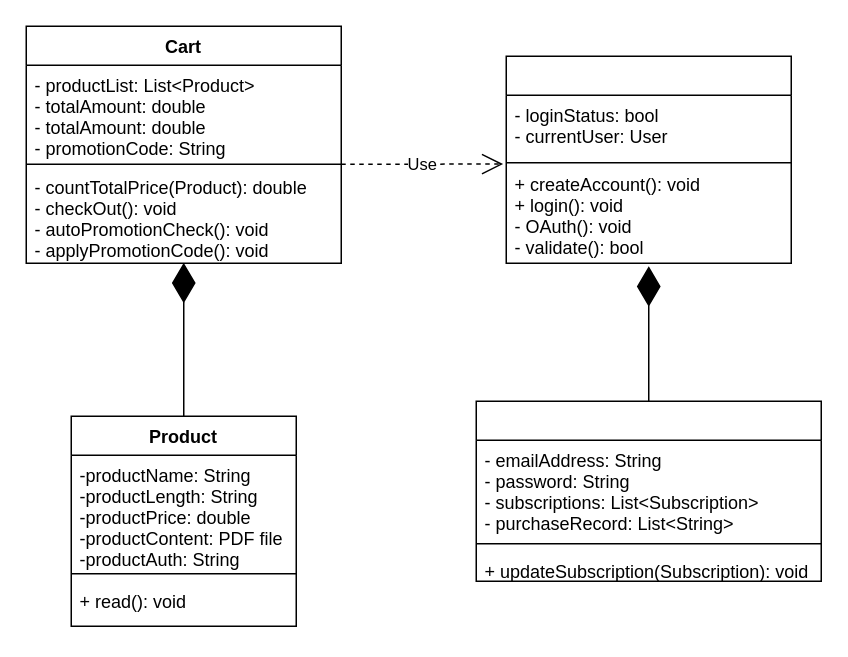
The diagram is 848 pixels wide and 657 high, and some of its shapes have lost their labels. Here are the shapes that lost their labels. From the top down, the box of each, then its label:
(505, 55, 791, 263): AccountManager
(475, 400, 821, 581): User
